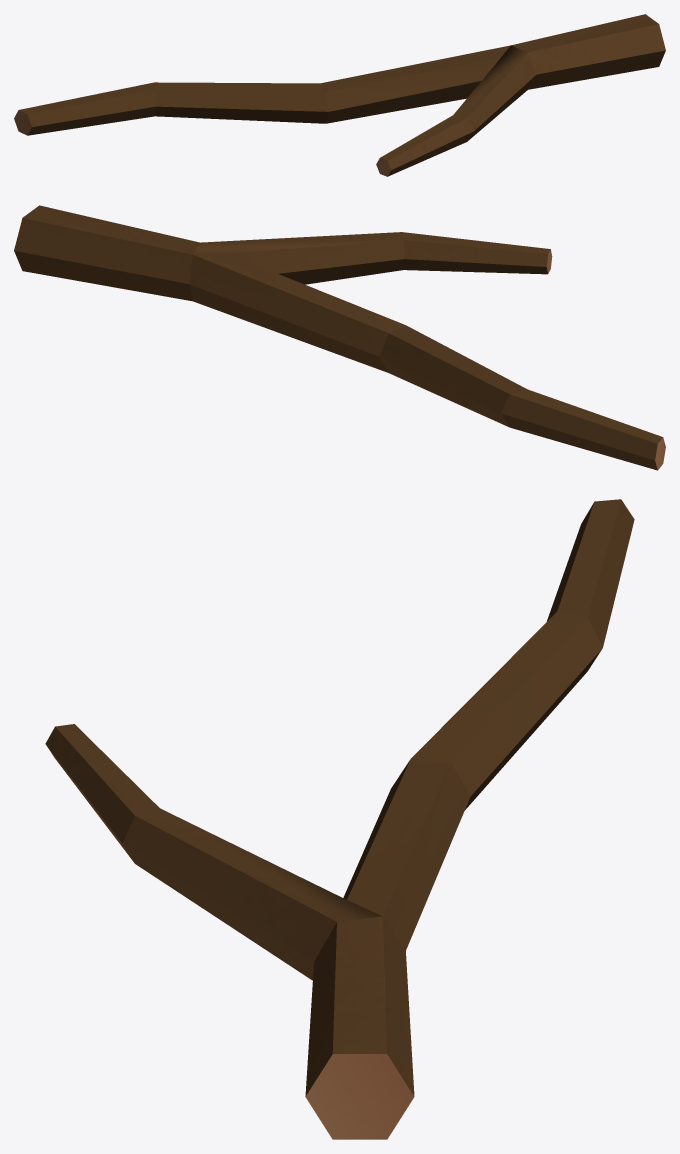
Rendered from Branch_1.fbx.
3 renders of one model, top to bottom at view 1: azimuth 30°, elevation 25°; view 2: azimuth 150°, elevation 25°; view 3: azimuth 270°, elevation 25°, orthographic. The views are drawn at different scales.
Parts seen in each view (by area): view 1: Branch_1; view 2: Branch_1; view 3: Branch_1.
Boxes of the visible parts, x1,y1,x2,y2 form: Branch_1: [14, 14, 665, 176]; Branch_1: [14, 205, 665, 470]; Branch_1: [45, 499, 634, 1139].
Size of the model in its own units: 0.3359 by 0.0256 by 0.1505.
Materials: 1 (1 with a texture image).
